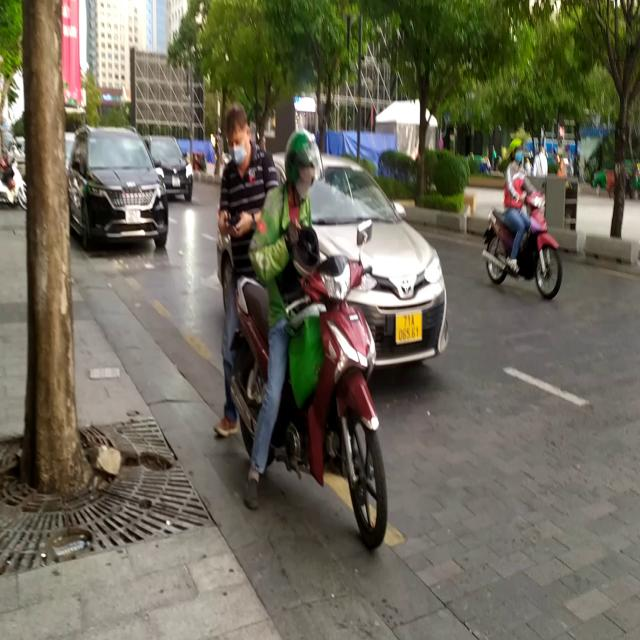bien_vang: (392, 310, 426, 351)
